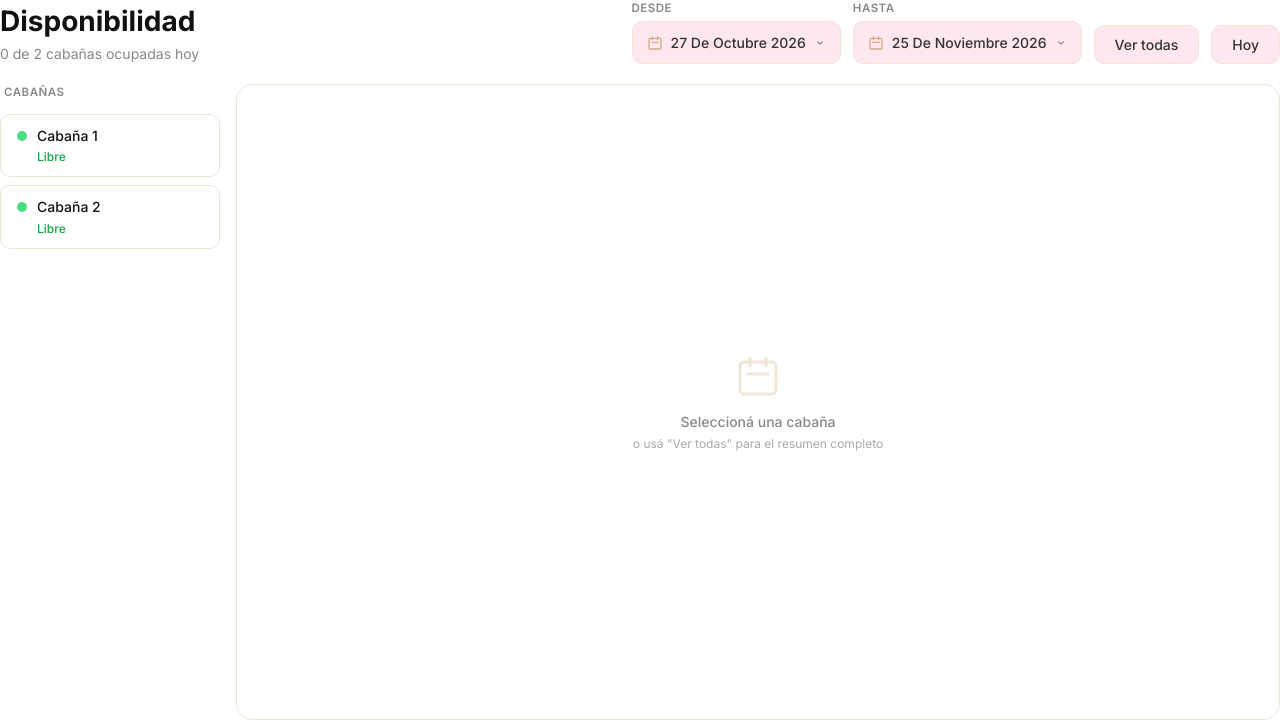
it: Disponibilidad — header en dos grupos explícitos (Desde/Hasta y toggle/Hoy) › la misma agrupación de dos grupos aparece también en "Ver por cabaña" (header compartido)
This screenshot has width=1280, height=720.
Click the button "Ver todas" at (1146, 45), box [1094,25,1199,64]
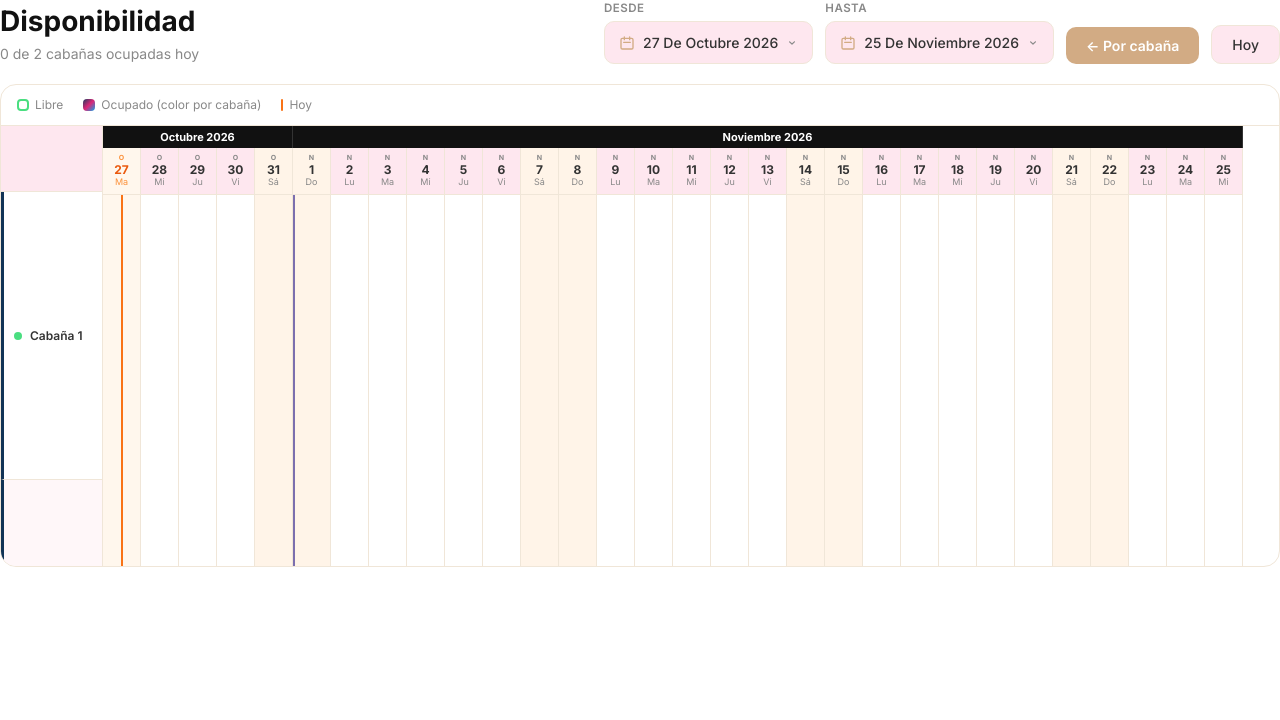
Result: the button "← Por cabaña" is shown at [1066,27,1199,64]
